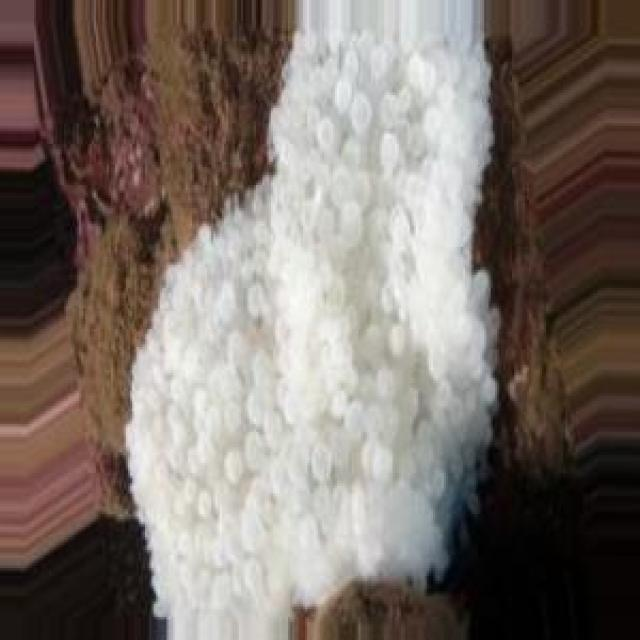Bleached: (131, 4, 496, 638)
